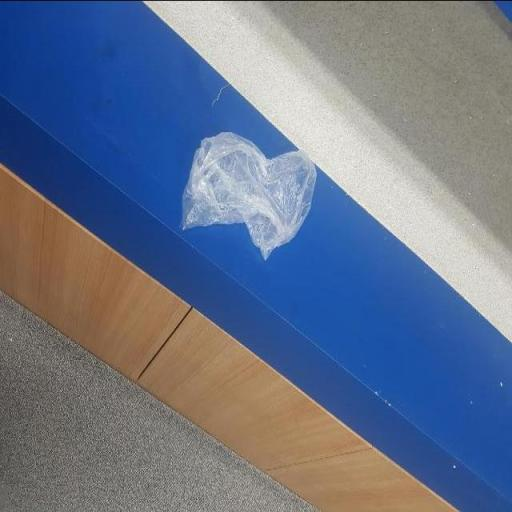plastic-bag: (178, 132, 321, 261)
